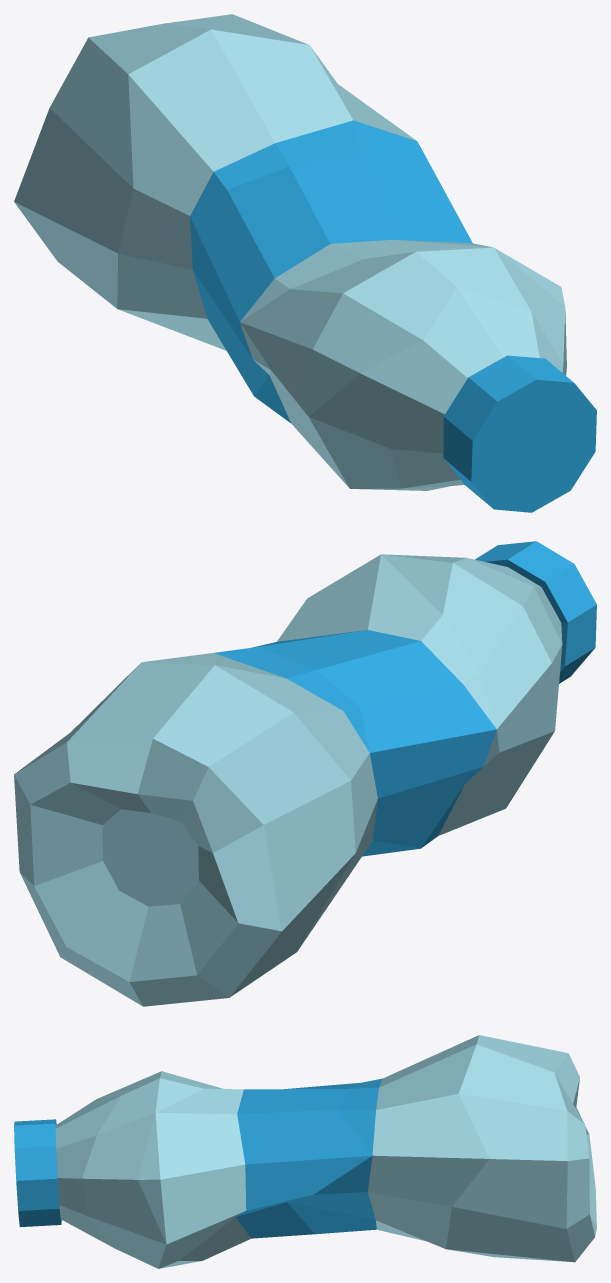
Rendered from bottle.gltf.
The picture shows the model from 3 angles, top to bottom: view 1: azimuth 30°, elevation 25°; view 2: azimuth 150°, elevation 25°; view 3: azimuth 270°, elevation 25°; orthographic projection. The views are drawn at different scales.
Parts seen in each view (by area): view 1: Cylinder001_1, Cylinder001; view 2: Cylinder001_1, Cylinder001; view 3: Cylinder001_1, Cylinder001.
Part boxes in pixels (<box>): Cylinder001_1: <box>14,14,566,490</box>; Cylinder001: <box>190,120,596,512</box>; Cylinder001_1: <box>14,554,562,1006</box>; Cylinder001: <box>214,541,596,856</box>; Cylinder001_1: <box>55,1035,596,1268</box>; Cylinder001: <box>14,1078,382,1238</box>.
Size of the model in its own units: 1.41 by 1.51 by 3.68.
